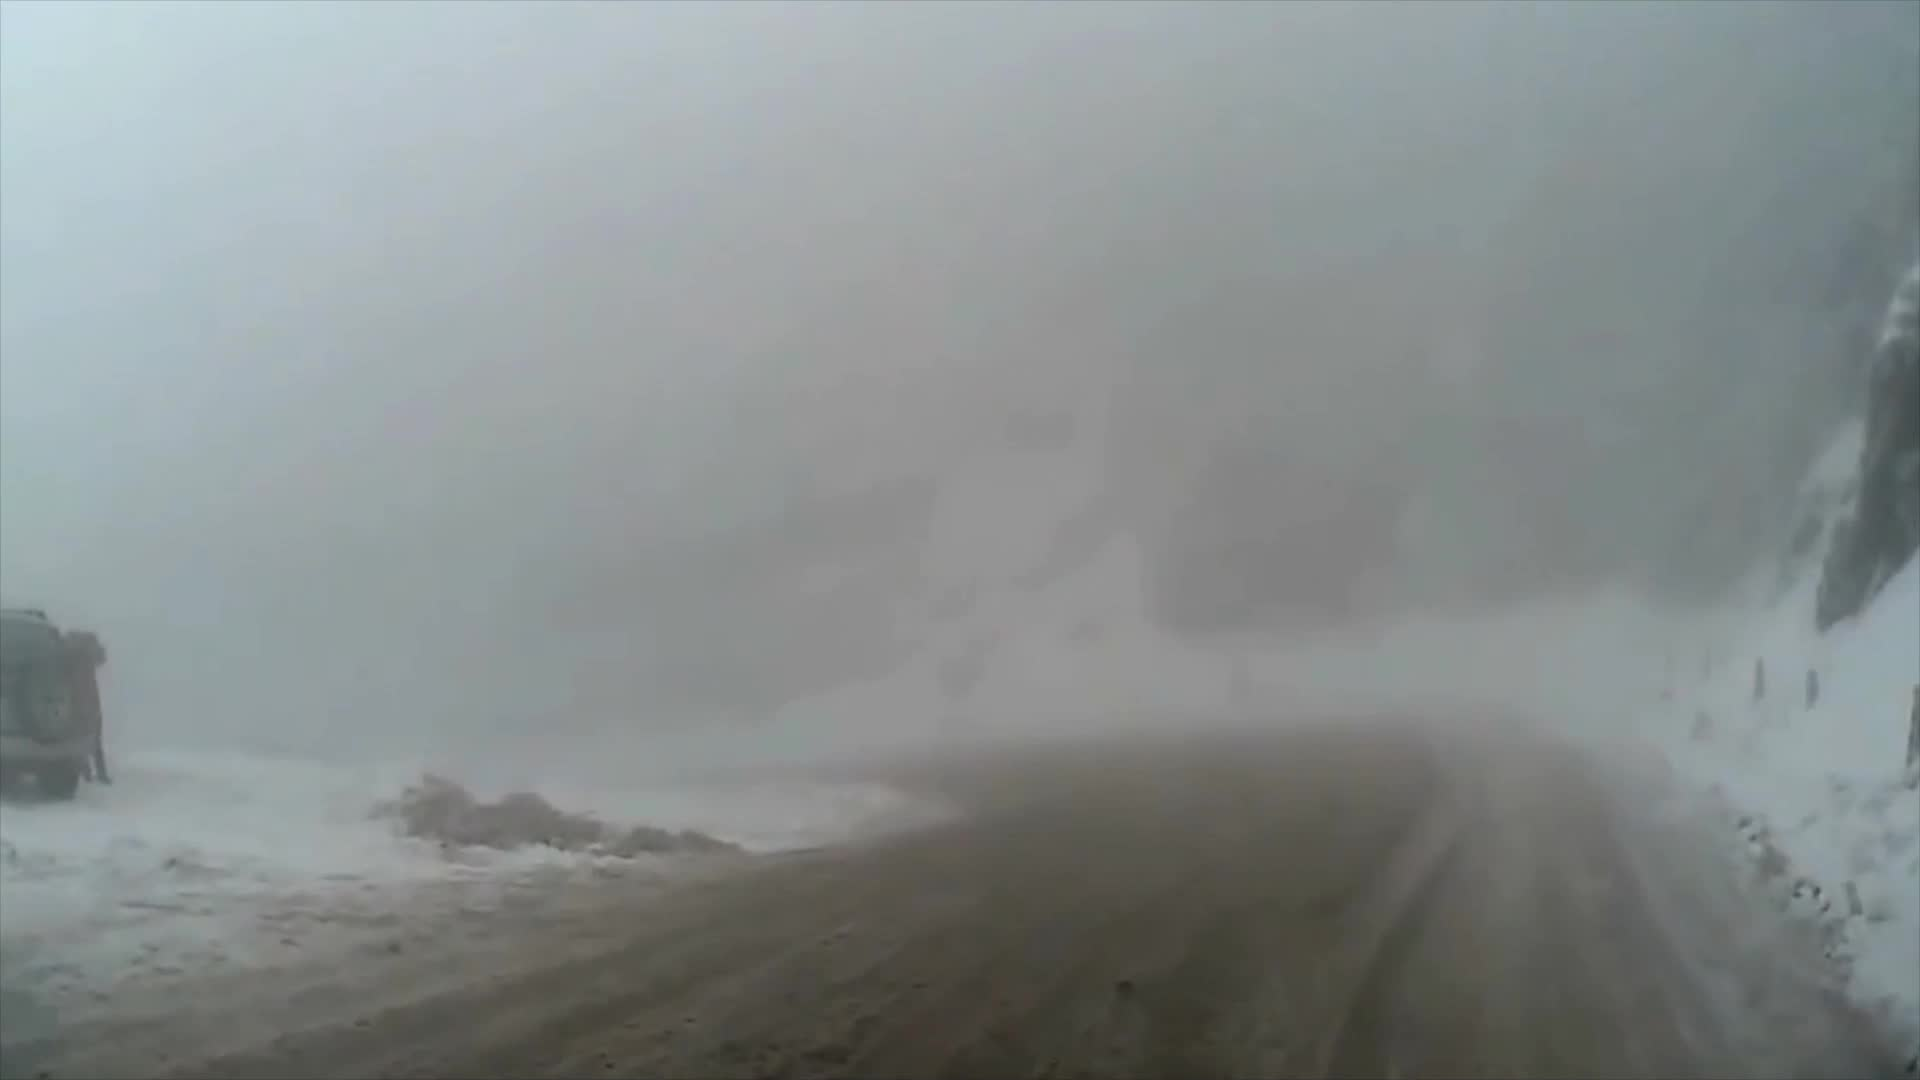vehicle: (0, 607, 90, 800)
